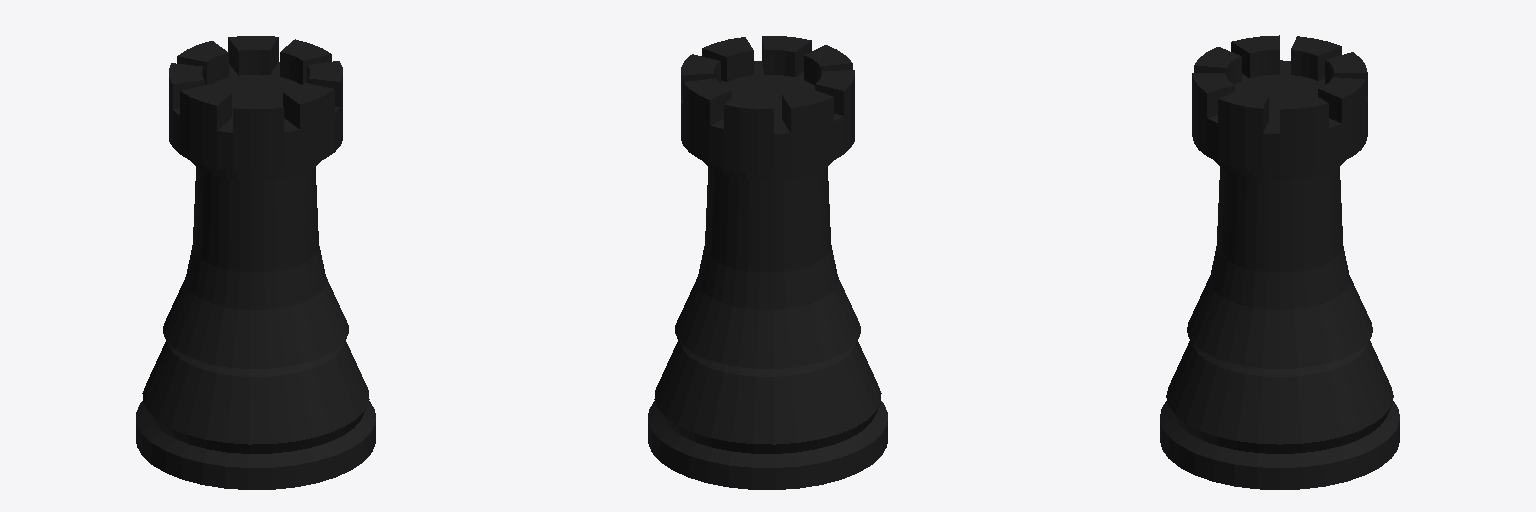
The model's file is rookbk.obj.
3 views of the same model, side by side, from view 1: azimuth 30°, elevation 25°; view 2: azimuth 150°, elevation 25°; view 3: azimuth 270°, elevation 25° (orthographic).
Visible parts, largest first — view 1: Cylinder; view 2: Cylinder; view 3: Cylinder.
Boxes of the visible parts, x1,y1,x2,y2 form: Cylinder: [136, 36, 375, 489]; Cylinder: [648, 36, 887, 489]; Cylinder: [1160, 35, 1399, 489].
Bounding box in the file's own units: 2 × 3.36 × 2.